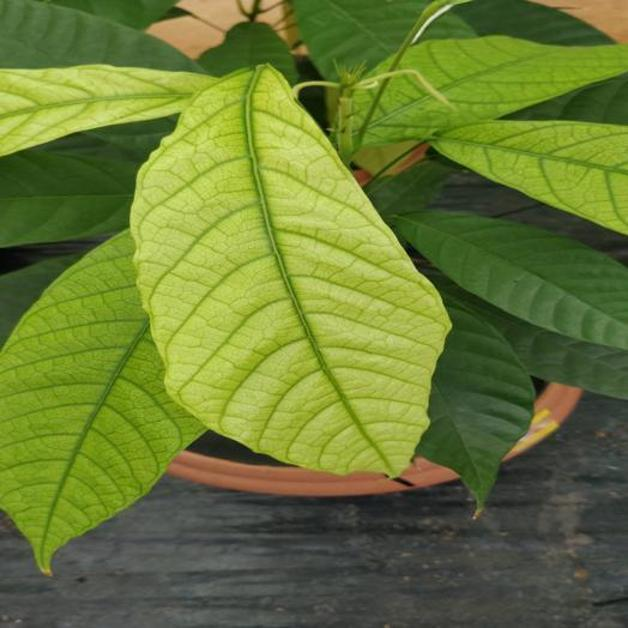Iron: (130, 66, 449, 475), (0, 231, 205, 573), (365, 36, 627, 146), (432, 120, 627, 234), (0, 65, 216, 155)
